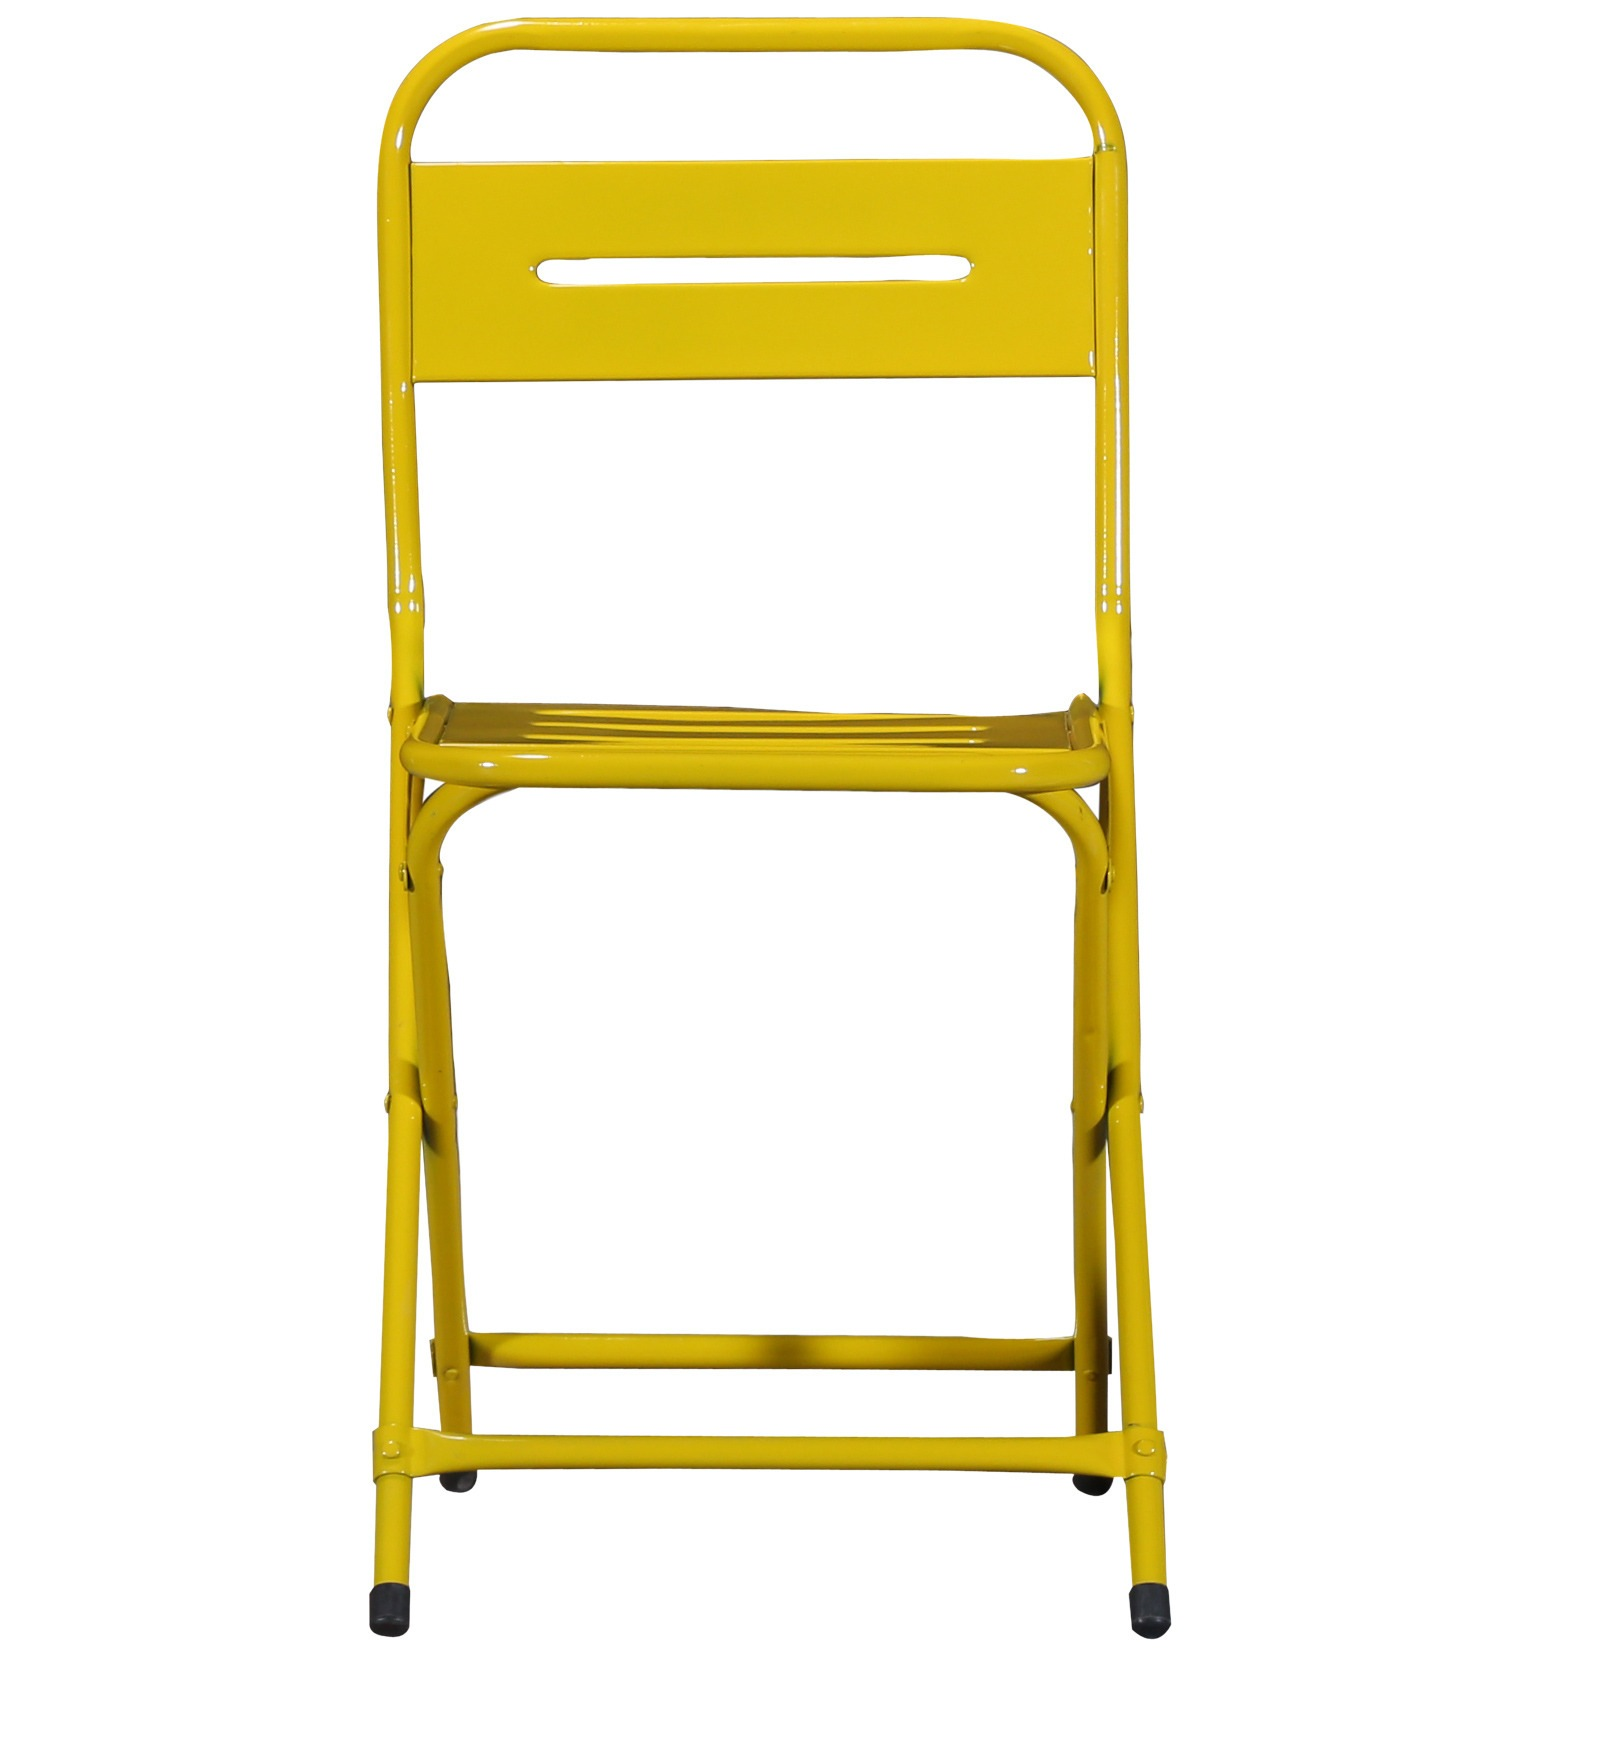Marandoo Grunge Outdoor Folding Chair in Yellow Colour by Bohemiana: (365, 14, 1202, 1645)
